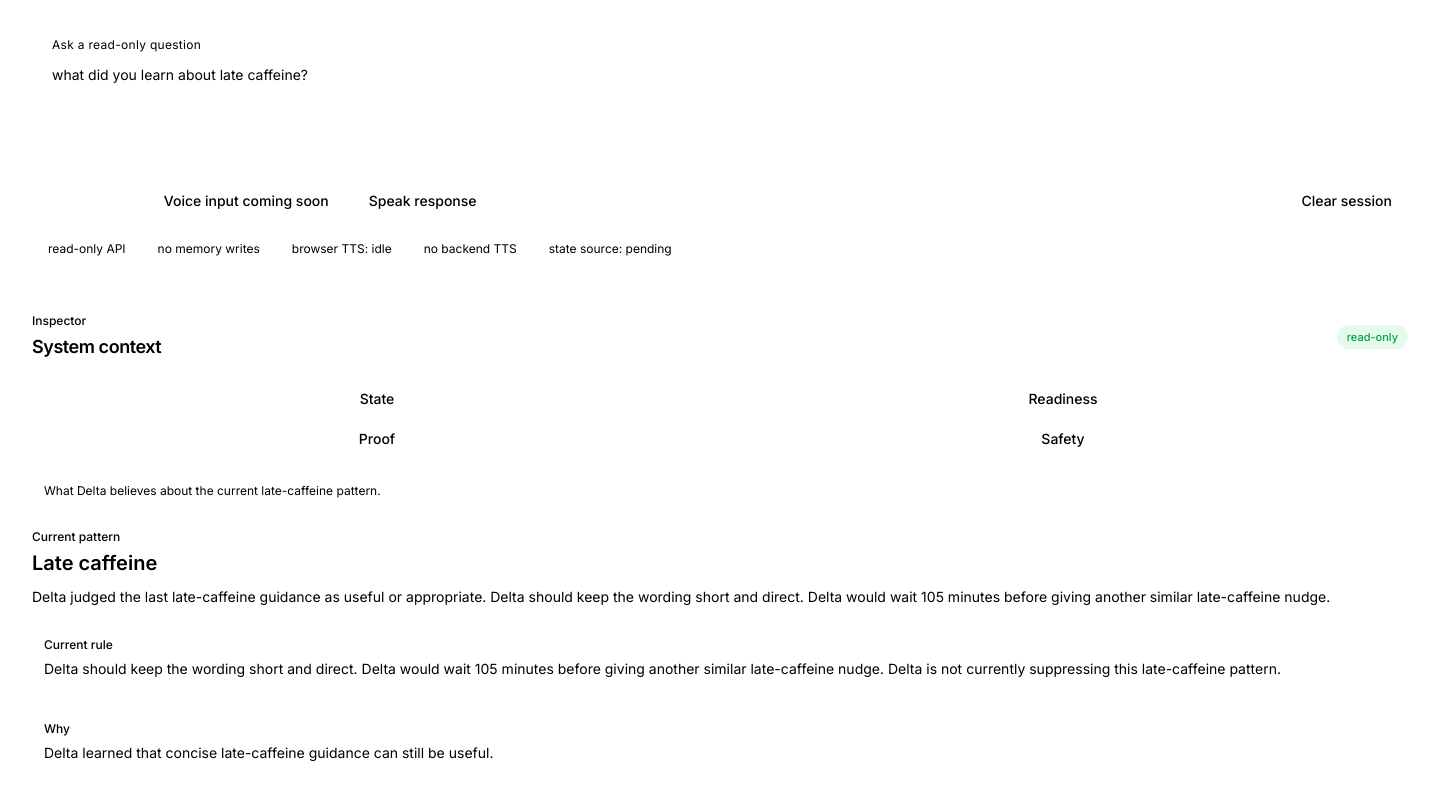
Scenario: OSConsole command center › renders successful live system readiness
(page scrolled)
Click the button "Readiness" at (1063, 399), box [722,381,1404,417]
(page scrolled)
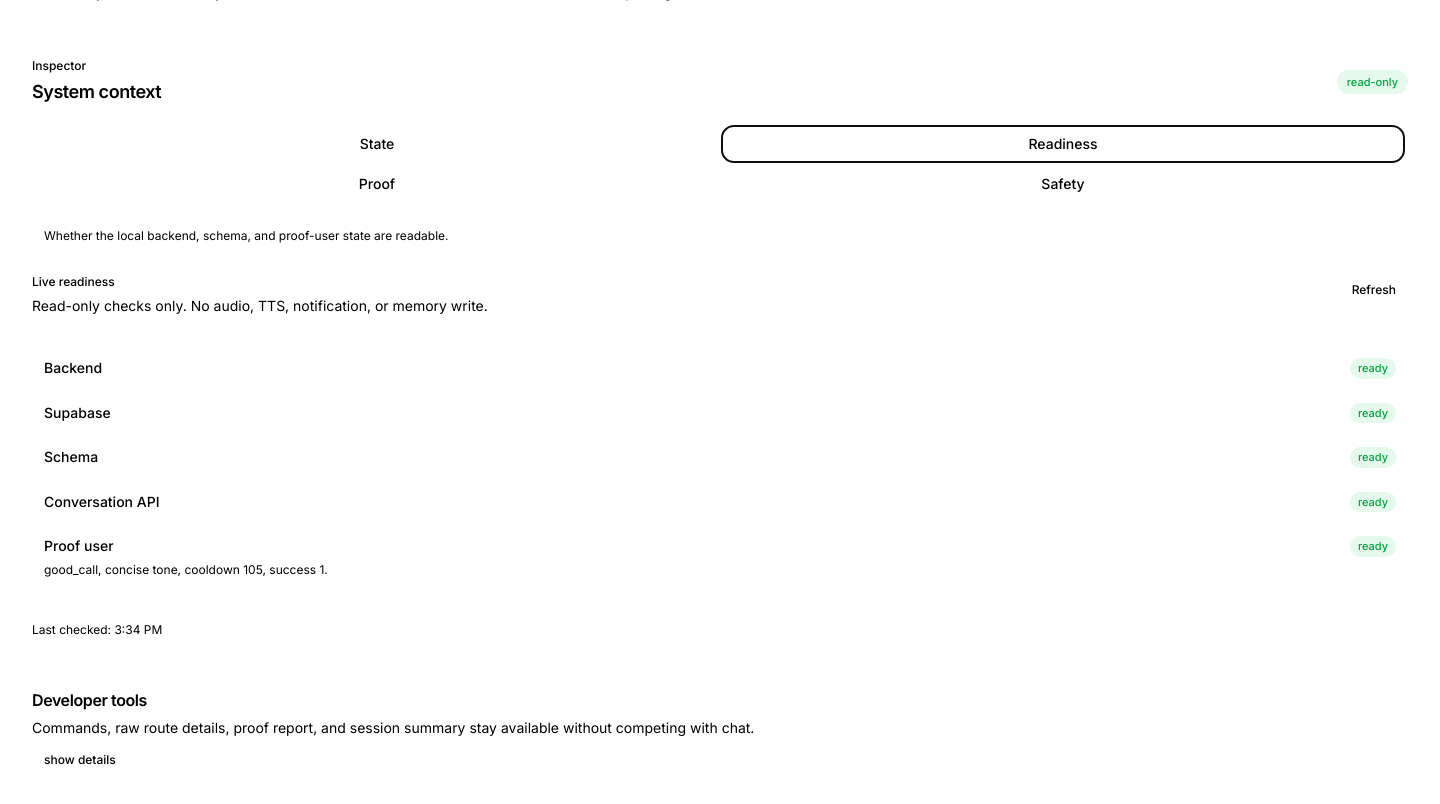
Expected: the text "Live readiness" is shown, [32,274,115,289]
Expected: the text "good_call, concise tone, cooldown 105, success 1." is shown, [44,560,328,580]
